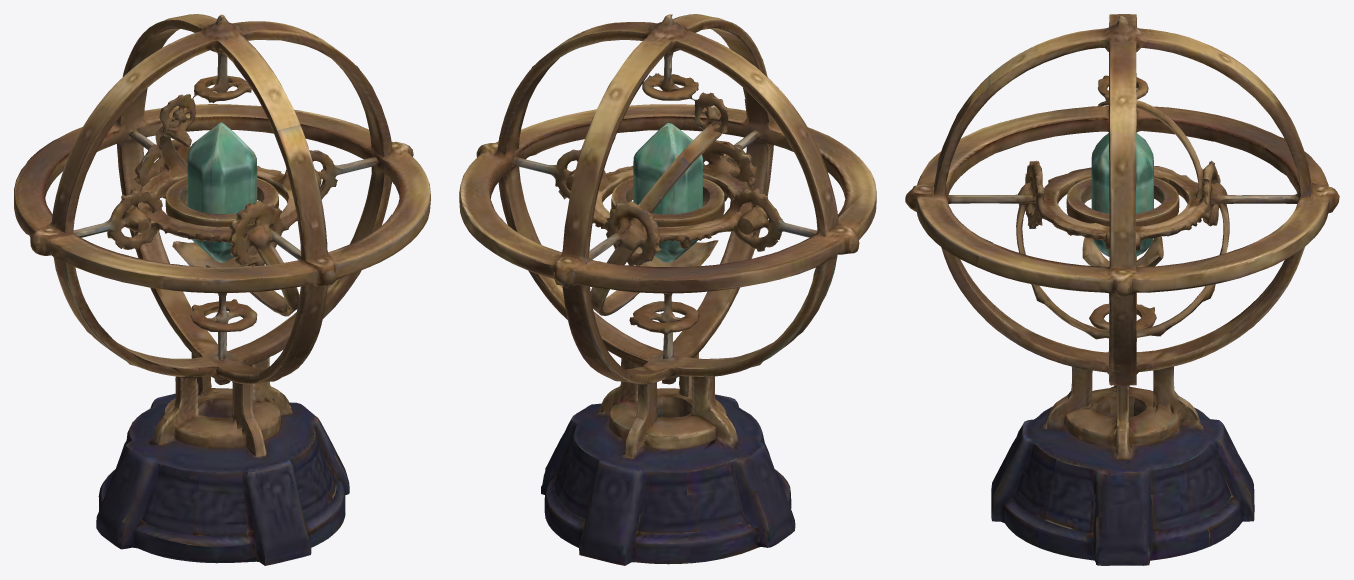
Rendered from orrery_altar_01.glb.
The picture shows the model from 3 angles, left to right: view 1: azimuth 30°, elevation 25°; view 2: azimuth 150°, elevation 25°; view 3: azimuth 270°, elevation 25°; orthographic projection.
Visible parts, largest first — view 1: orrery_altar_01_mesh_01; view 2: orrery_altar_01_mesh_01; view 3: orrery_altar_01_mesh_01.
Part boxes in pixels (x1,y1,x2,y2): orrery_altar_01_mesh_01: (14,14,430,565); orrery_altar_01_mesh_01: (459,14,876,565); orrery_altar_01_mesh_01: (905,14,1339,565).
Size of the model in its own units: 1.53 by 1.91 by 1.52.
1 material, 1 textured.
